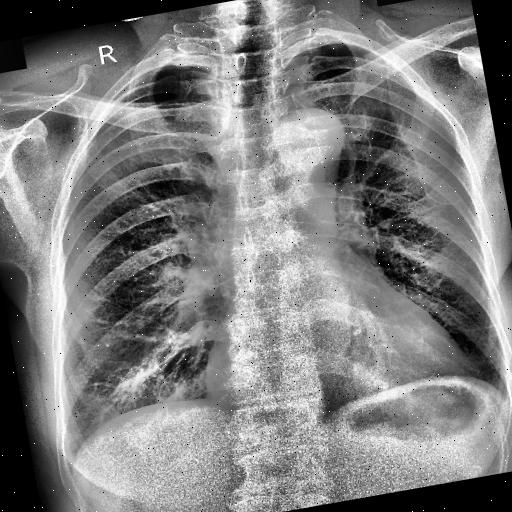0- Aortic enlargement: (261, 102, 351, 195), (264, 103, 352, 179), (266, 100, 350, 172)
11- Pleural thickening: (122, 60, 201, 89)
3- Cardiomegaly: (200, 298, 471, 430), (200, 309, 476, 426), (201, 324, 471, 440)
